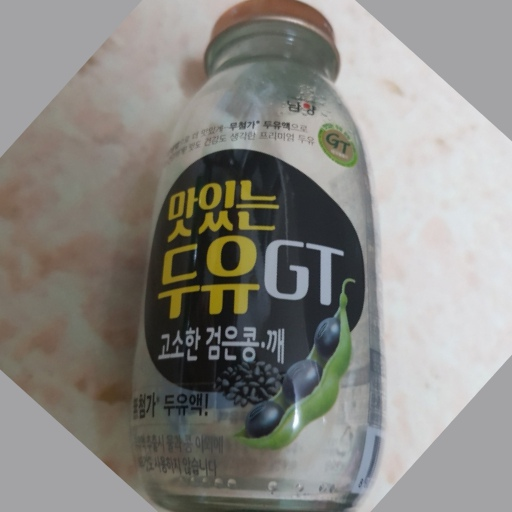Glass_4: (128, 1, 391, 504)
